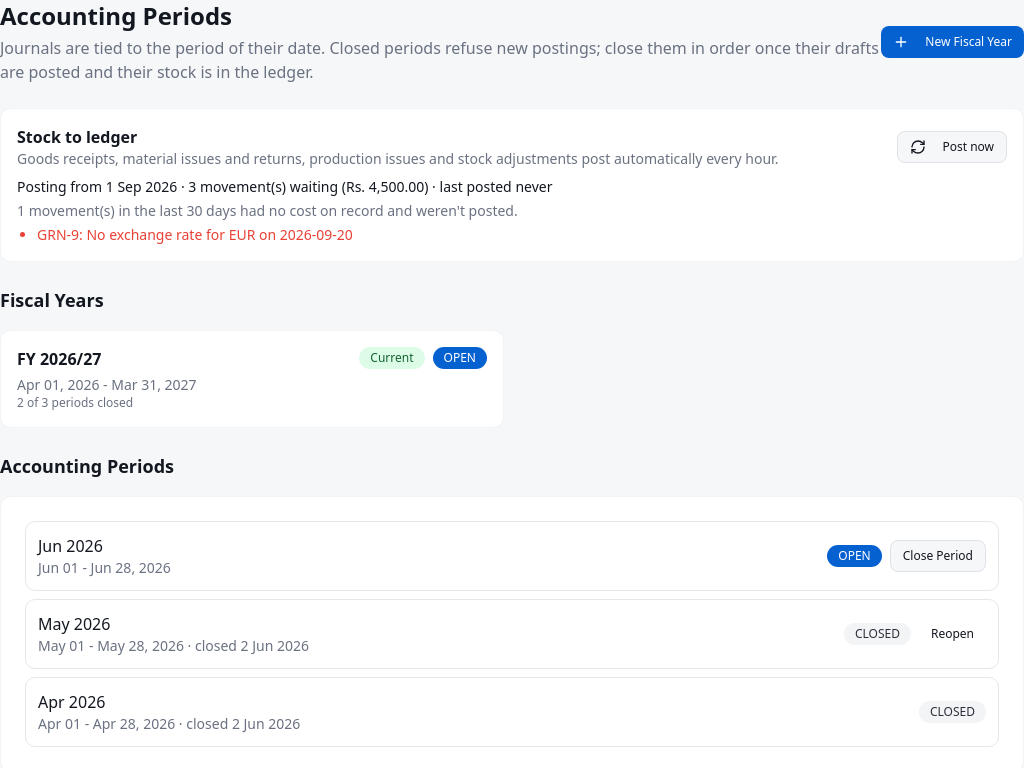
Test case: Accounting periods › a new year follows on from the last one
Later steps or results of the test are not shown.
Step 1. Click the button "New Fiscal Year" → (953, 42), box [881,26,1023,58]
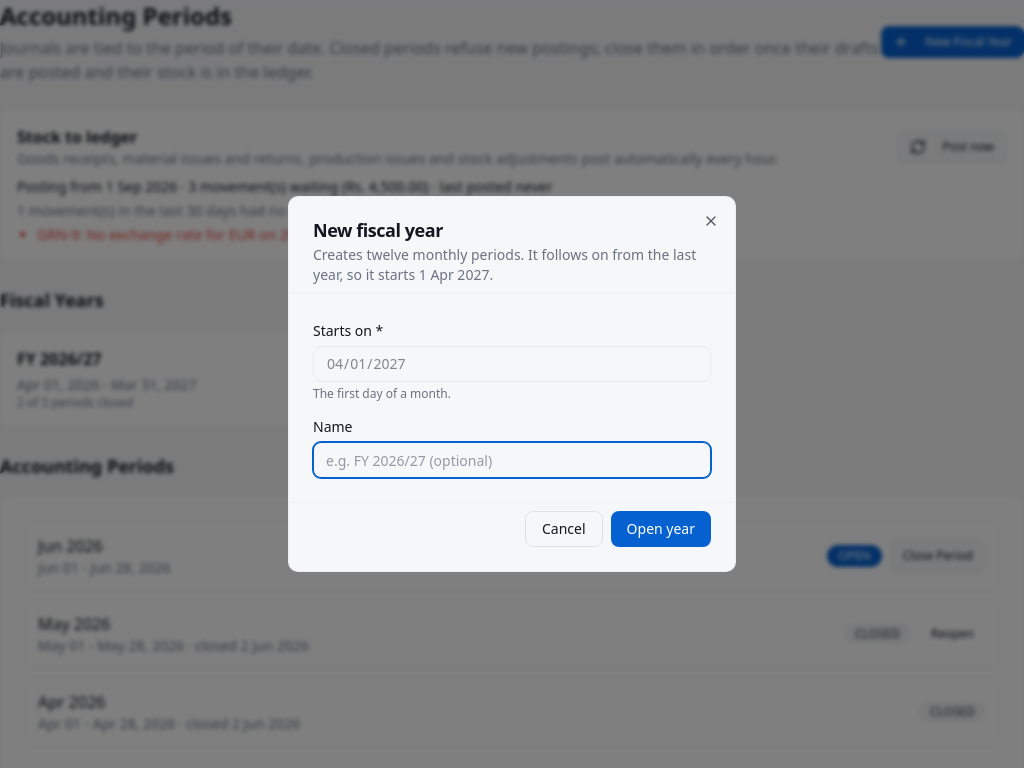
Expected: the date field labelled "Starts on *" holds "2027-04-01", [313,346,711,382]
Expected: the date field labelled "Starts on *" is disabled, [313,346,711,382]
